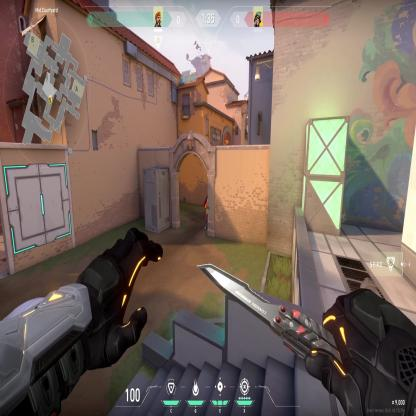enemy: (204, 198, 208, 230)
